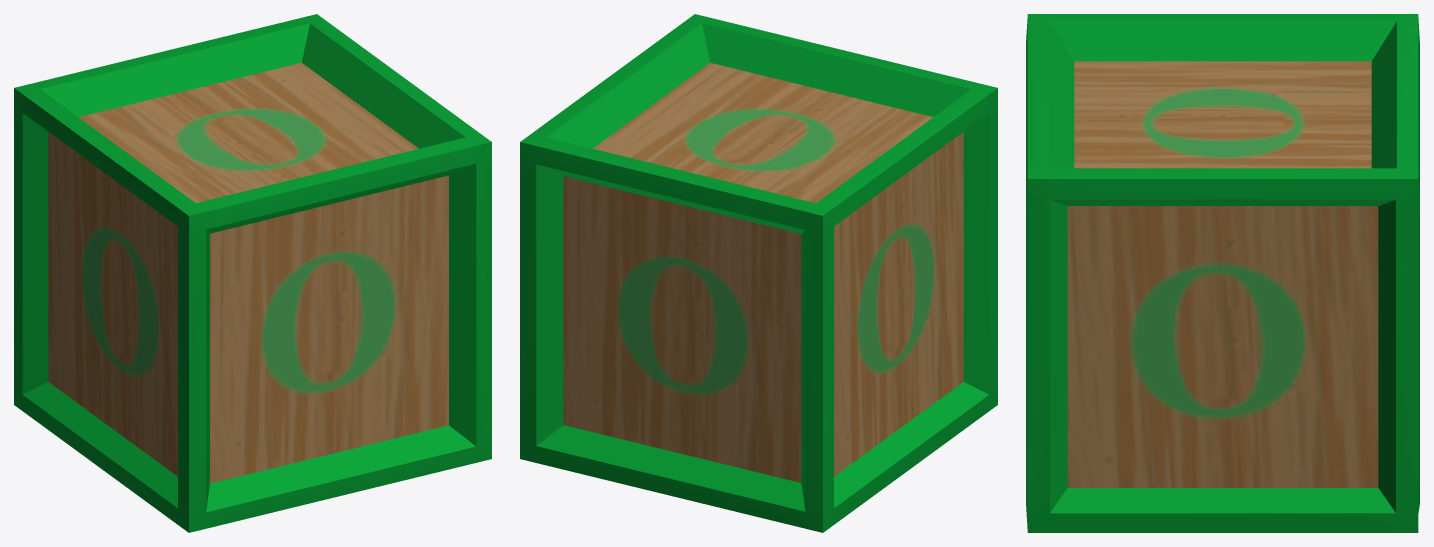
The model's file is Letter_O.fbx.
The picture shows the model from 3 angles, left to right: view 1: azimuth 30°, elevation 25°; view 2: azimuth 150°, elevation 25°; view 3: azimuth 270°, elevation 25°; orthographic projection. The views are drawn at different scales.
Visible parts, largest first — view 1: LetterBlock_O; view 2: LetterBlock_O; view 3: LetterBlock_O.
Boxes of the visible parts, x1,y1,x2,y2 form: LetterBlock_O: [14, 14, 491, 532]; LetterBlock_O: [520, 14, 997, 532]; LetterBlock_O: [1026, 14, 1419, 532].
Size of the model in its own units: 0.1209 by 0.1213 by 0.121.
1 material, 1 textured.
